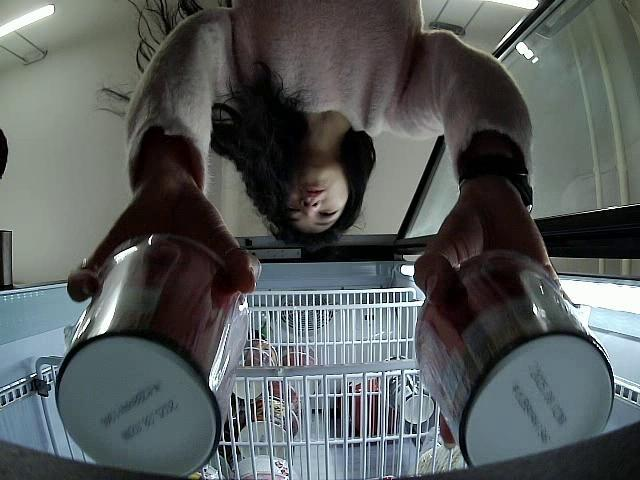02_shinRamen_S: (55, 239, 249, 470), (414, 252, 613, 466)
